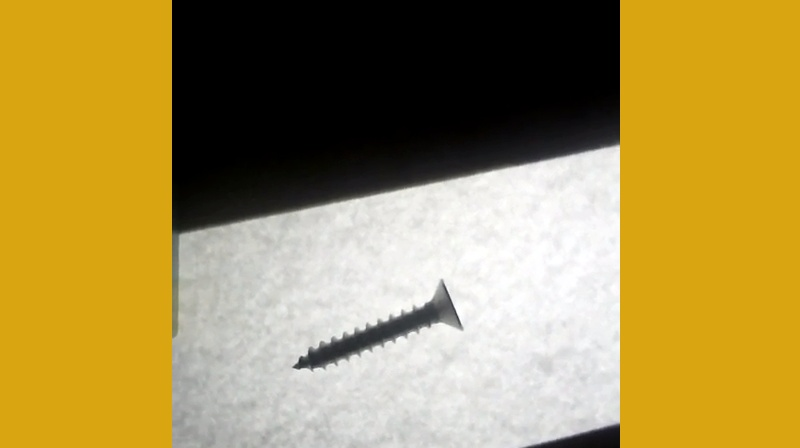S001: (287, 276, 466, 372)
